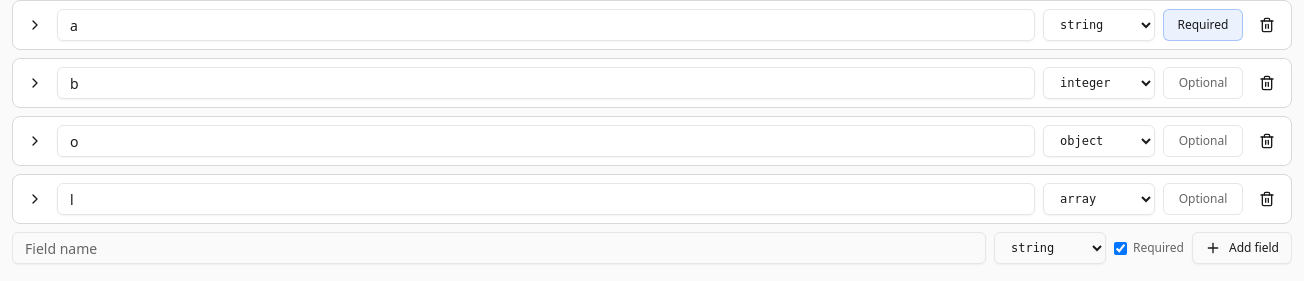
SchemaEditor › rename_to_an_existing_name_is_reverted
The image size is (1304, 281).
Replace the text in the field named "Name of a" with "b" at (546, 25), box [57,9,1035,41]
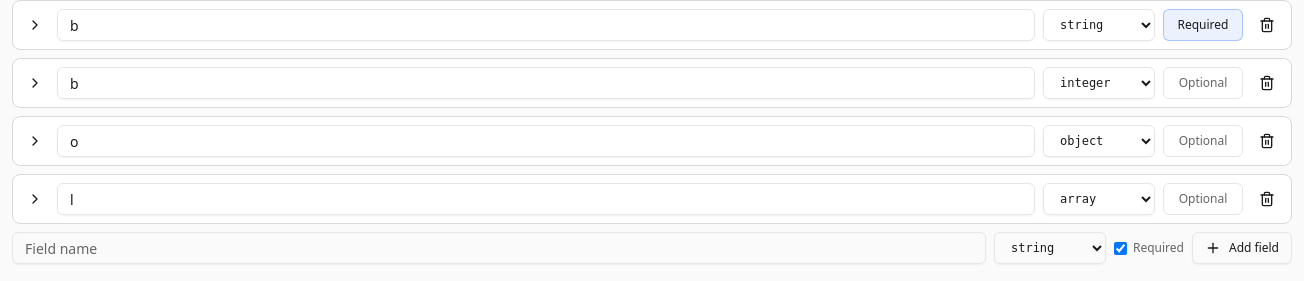
Leave the field named "Name of a", box [57,9,1035,41]
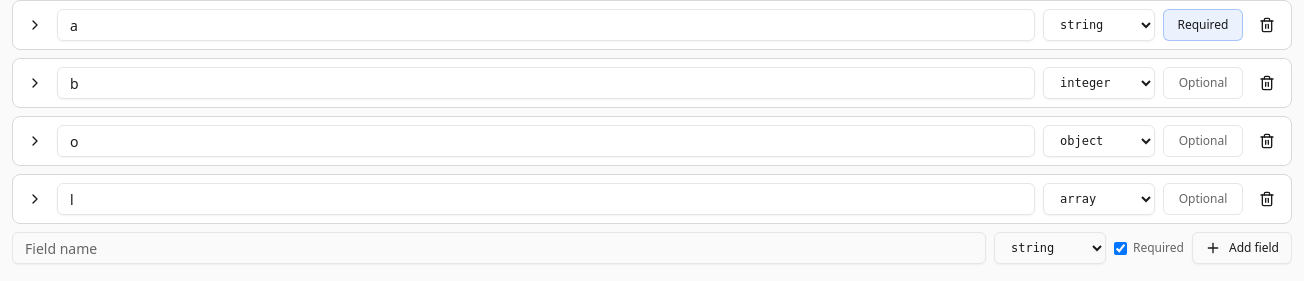
Result: the field named "Name of a" holds "a" at [57,9,1035,41]
